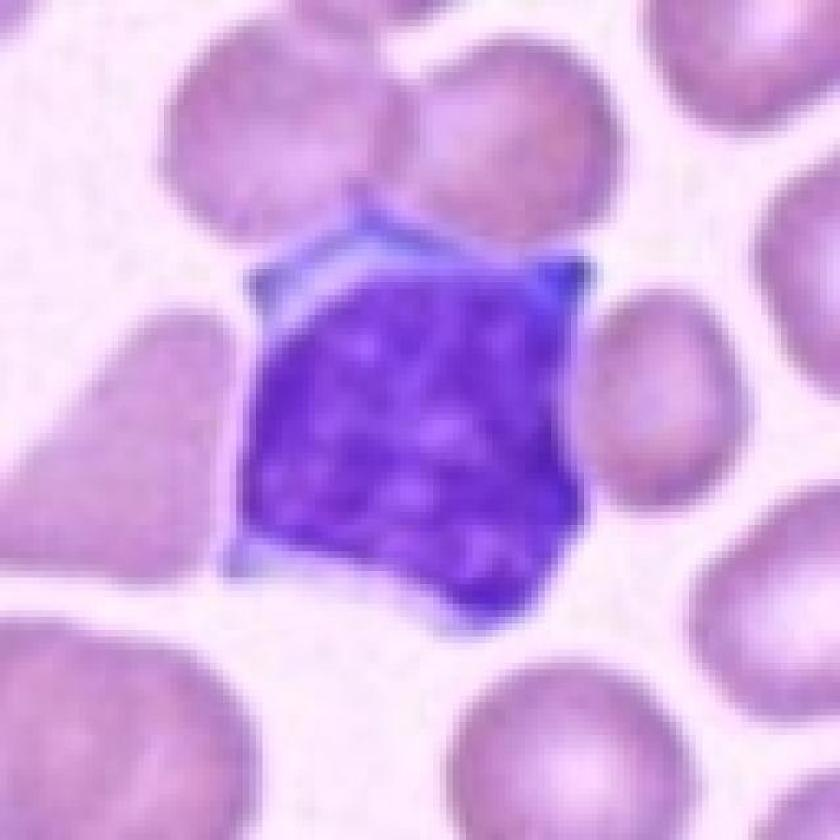lymphocyte: (220, 165, 605, 652)
